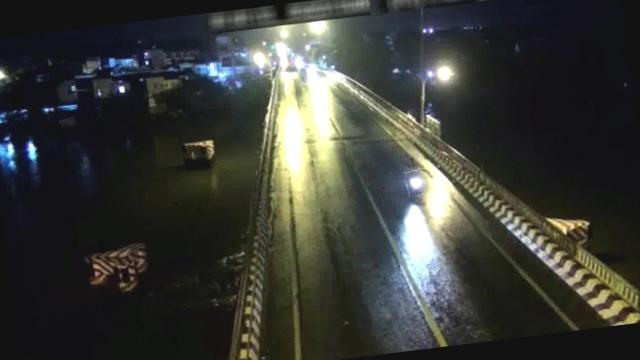Bike: (404, 168, 431, 196)
